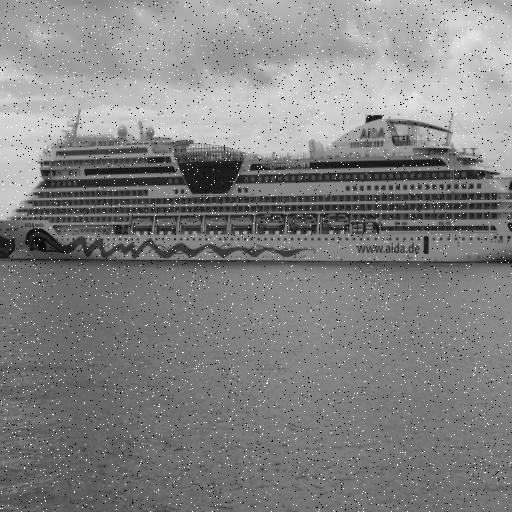cruises: (1, 99, 512, 274)
